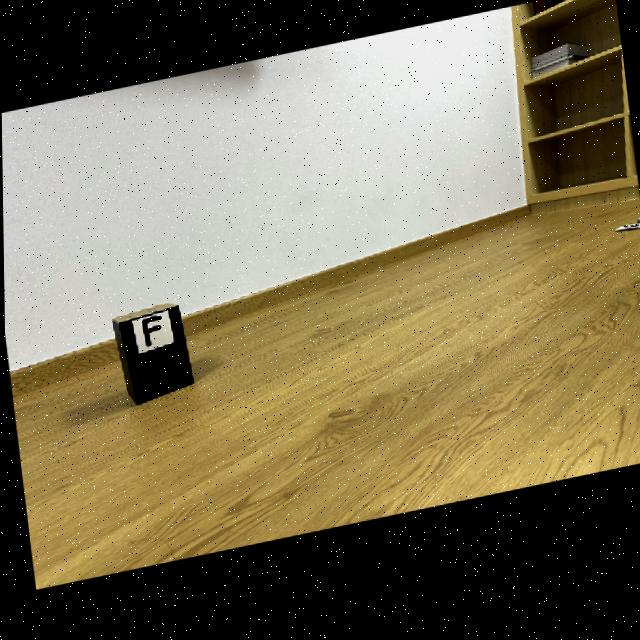F: (140, 319, 161, 350)
